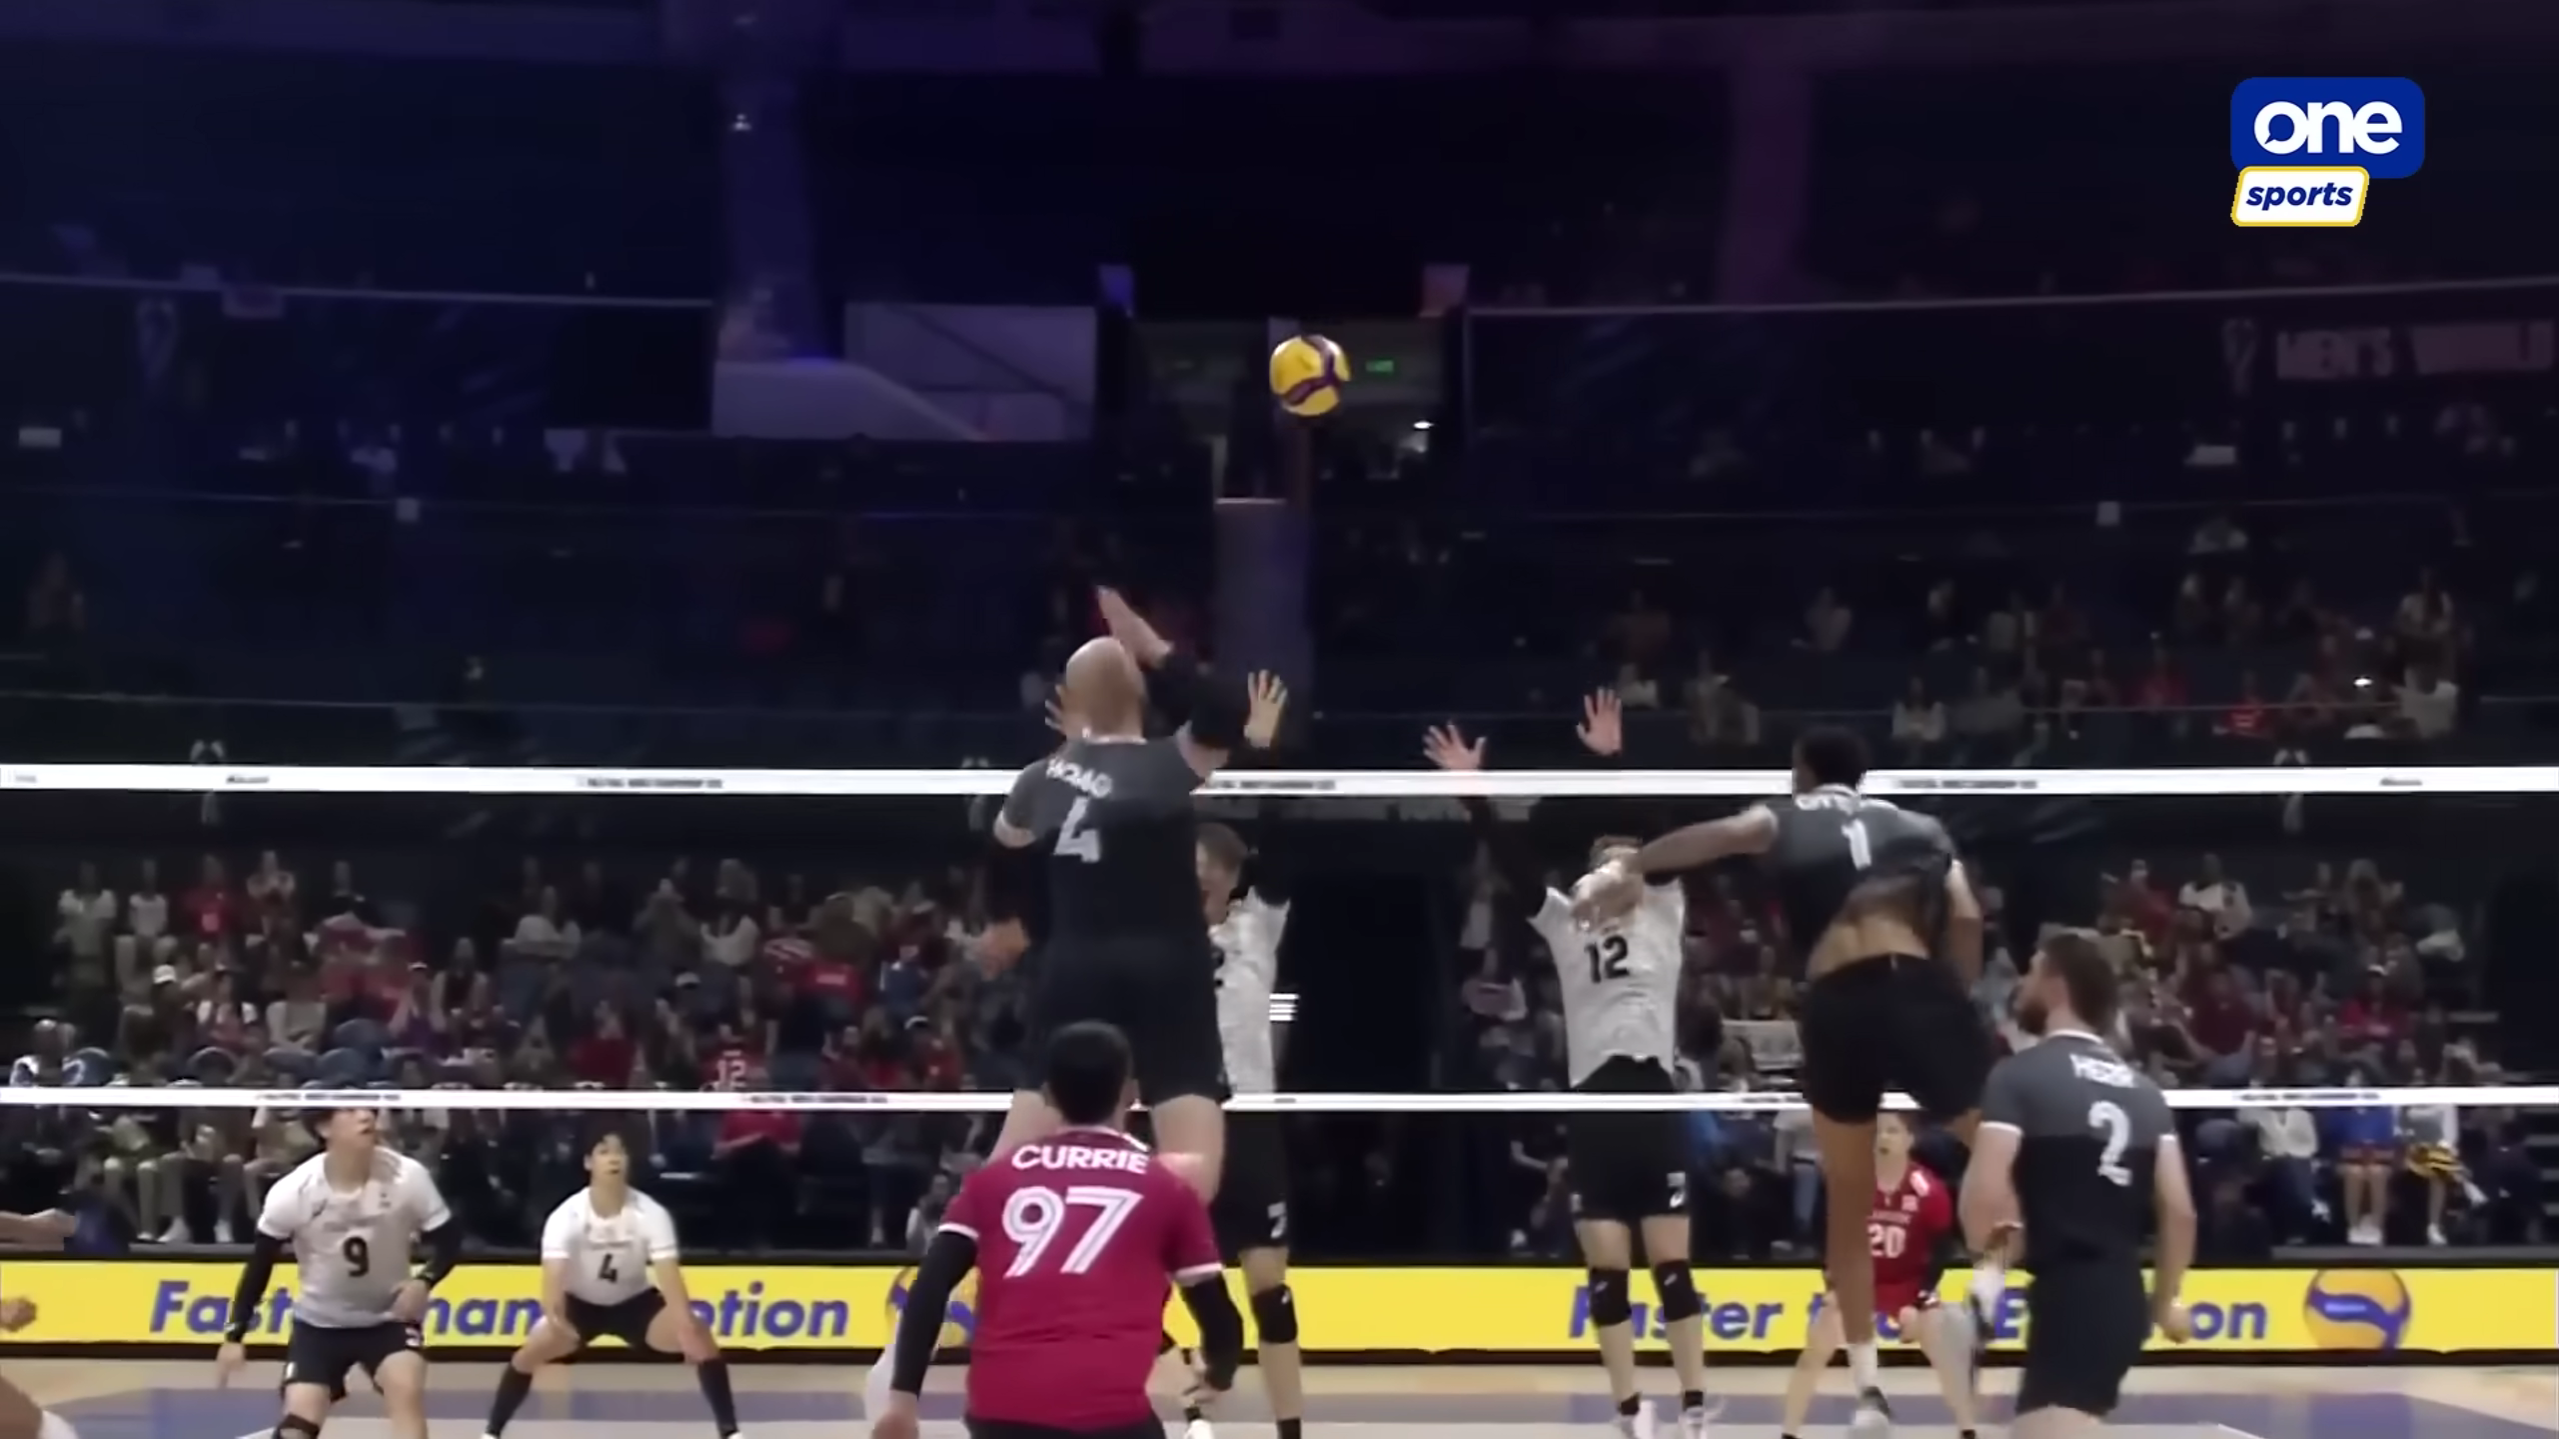Ball: (1264, 329, 1357, 418)
